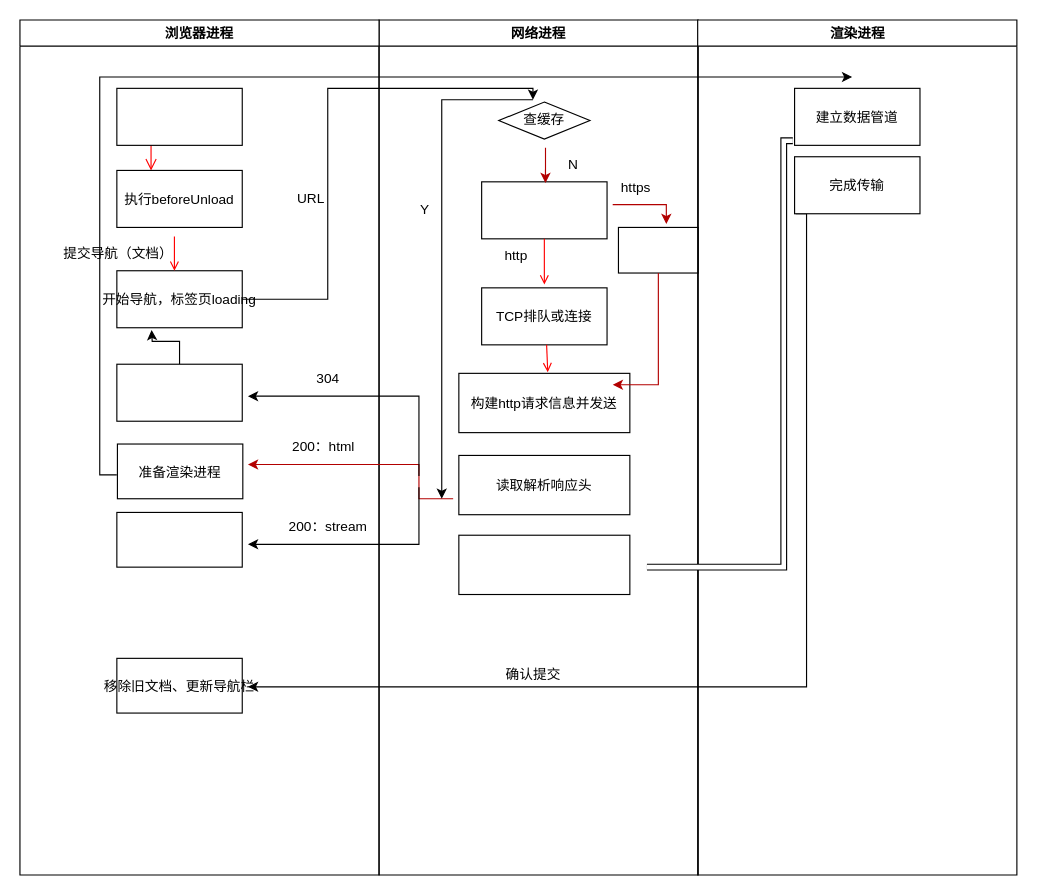
Some shapes in this 1037 by 895 pixel diagram are drawn without their labels. The shapes that lost their labels are listed below. From the top down, each one's centre as x and y in pixels, then its label:
(179,116): 处理输入，合成url
(544,210): DNS解析
(657,249): TLS连接
(179,392): 重定向
(179,539): 准备下载器
(544,564): 读取响应体
